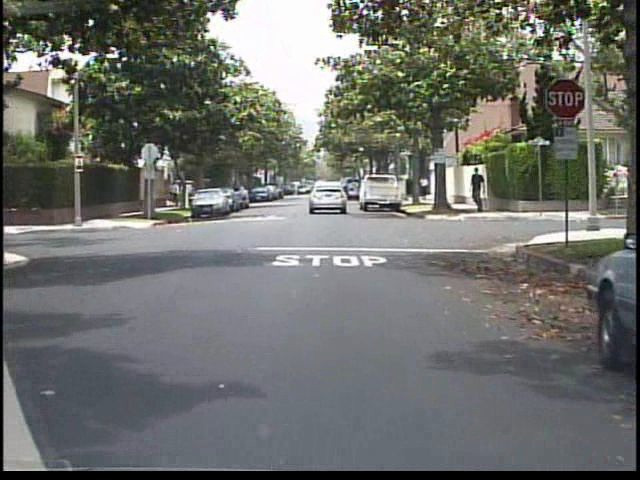person: (466, 164, 492, 218), (416, 172, 433, 205), (167, 179, 184, 209)
